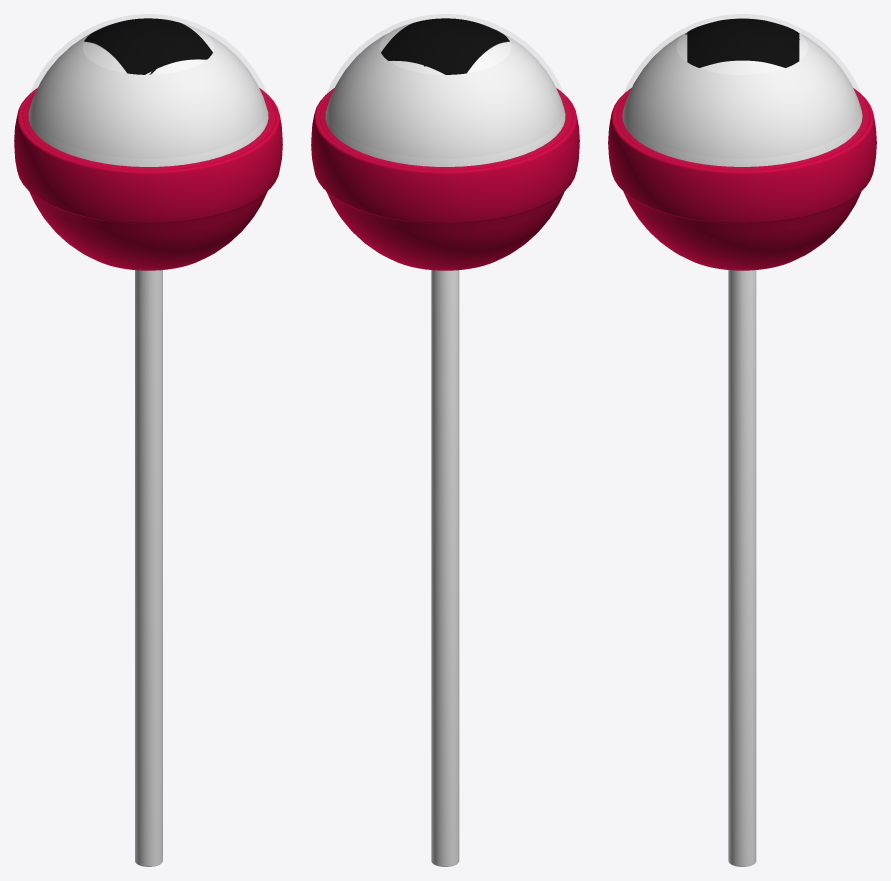
File: Lolipop.fbx
3 views of the same model, side by side, from view 1: azimuth 30°, elevation 25°; view 2: azimuth 150°, elevation 25°; view 3: azimuth 270°, elevation 25° (orthographic).
Visible parts, largest first — view 1: LolliPop Body, Gum, Stick, Sticker, ClearInside; view 2: LolliPop Body, Gum, Stick, Sticker, ClearInside; view 3: LolliPop Body, Gum, Stick, Sticker, ClearInside.
Part boxes in pixels (x1,y1,x2,y2): LolliPop Body: (14, 87, 282, 270); Gum: (28, 34, 268, 166); Stick: (135, 270, 162, 866); Sticker: (82, 18, 214, 74); ClearInside: (22, 92, 274, 170); LolliPop Body: (311, 87, 579, 270); Gum: (325, 34, 565, 166); Stick: (431, 270, 459, 866); Sticker: (379, 18, 511, 74); ClearInside: (319, 92, 571, 170); LolliPop Body: (608, 87, 876, 270); Gum: (622, 33, 862, 166); Stick: (728, 270, 756, 866); Sticker: (676, 18, 808, 74); ClearInside: (616, 93, 868, 170).
Size of the model in its own units: 45.91 by 157 by 45.91.
5 materials, 1 textured.
